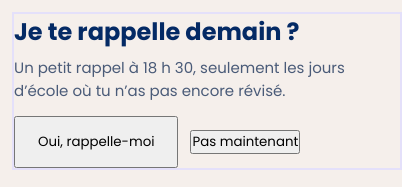
Test: <RappelDemain /> dans l’app iPhone › propose le rappel de 18 h 30 et l’active par une notification locale
This screenshot has width=402, height=187.
Check: the heading "Je te rappelle demain ?" is shown, box top-left (14, 15), bottom-right (299, 48)
Check: the text "18 h 30" is shown, box top-left (14, 57), bottom-right (345, 100)
Click the button "Oui, rappelle-moi". click: point(96, 142)
box: top-left (14, 116), bottom-right (178, 168)
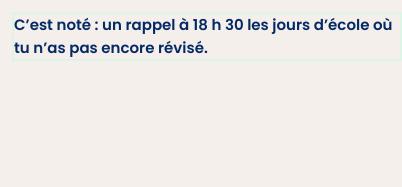
Check: the text "C’est noté : un rappel à 18 h 30" is shown, box top-left (14, 14), bottom-right (392, 58)
